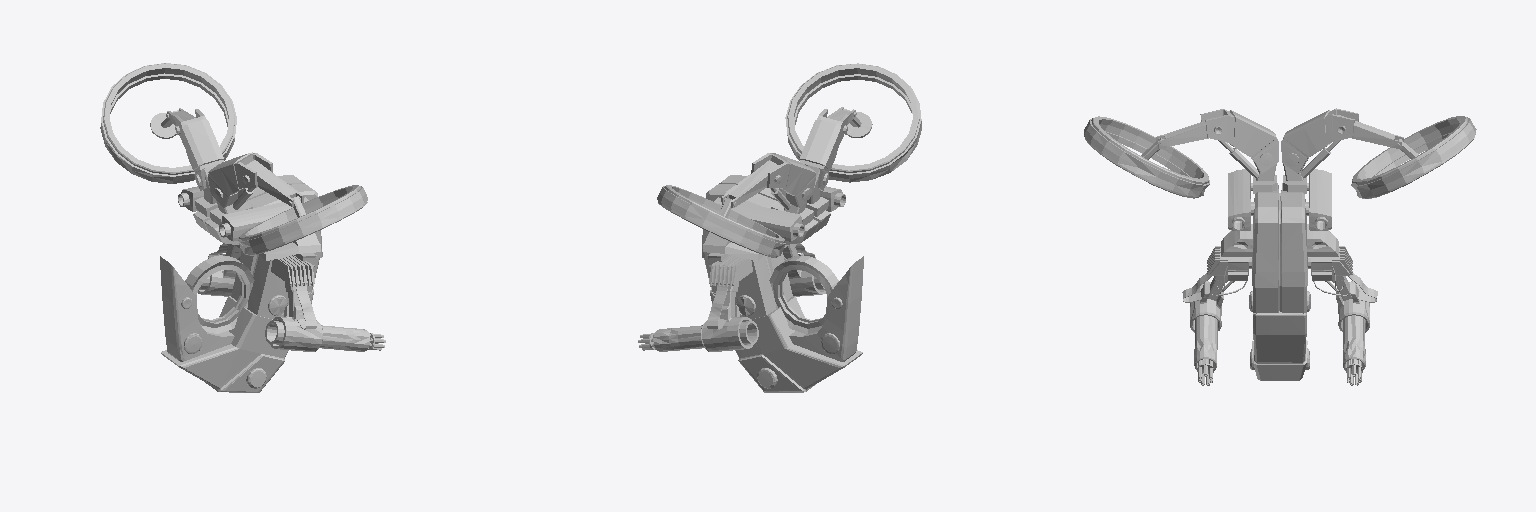
File: p3dm.ru_FlyingDrone.obj
3 renders of one model, left to right at view 1: azimuth 30°, elevation 25°; view 2: azimuth 150°, elevation 25°; view 3: azimuth 270°, elevation 25°, orthographic.
Parts seen in each view (by area): view 1: SK_VH_FlyingDrone; view 2: SK_VH_FlyingDrone; view 3: SK_VH_FlyingDrone.
Boxes of the visible parts, x1=… form: SK_VH_FlyingDrone: x1=100, y1=63, x2=385, y2=392; SK_VH_FlyingDrone: x1=638, y1=63, x2=921, y2=392; SK_VH_FlyingDrone: x1=1084, y1=108, x2=1476, y2=385.
Bounding box in the file's own units: 178 × 240 × 334.